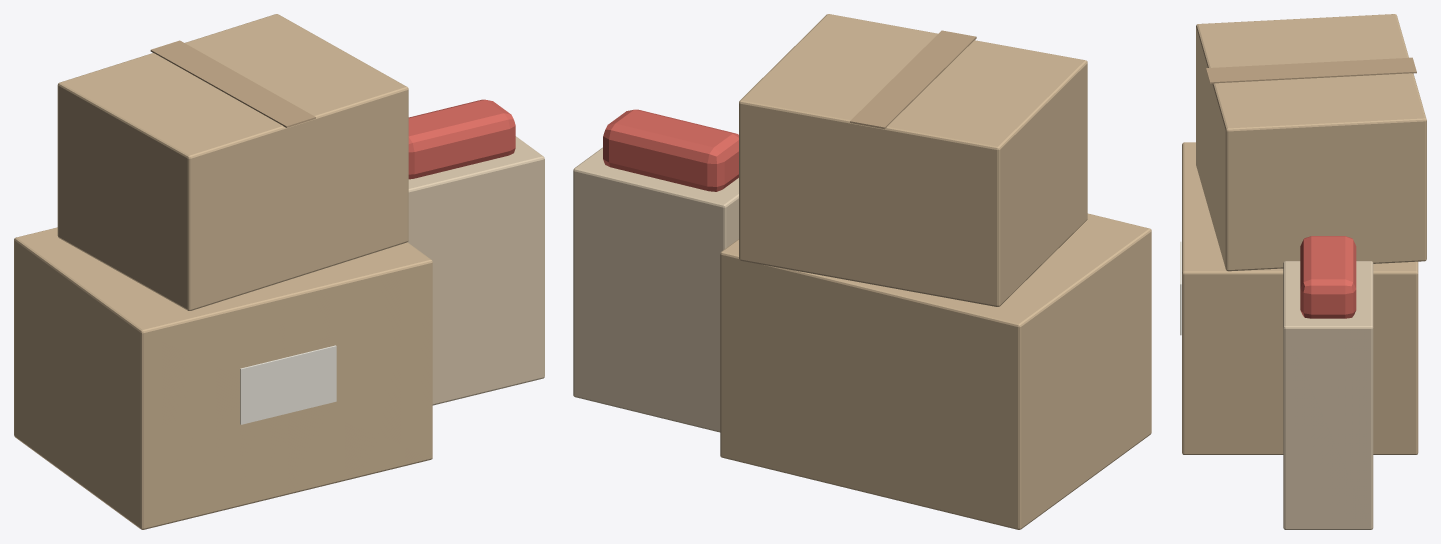
The model's file is v2_boxes.fbx.
3 renders of one model, left to right at view 1: azimuth 30°, elevation 25°; view 2: azimuth 150°, elevation 25°; view 3: azimuth 270°, elevation 25°, orthographic. The views are drawn at different scales.
Visible parts, largest first — view 1: BoxA, BoxB, Bag, BagCloth, Label, BoxTape; view 2: BoxA, BoxB, Bag, BagCloth, BoxTape; view 3: BoxB, BoxA, Bag, BagCloth, BoxTape.
Part boxes in pixels (x1,y1,x2,y2): BoxA: (14,227,432,529); BoxB: (57,14,408,310); Bag: (408,136,544,405); BagCloth: (408,99,515,179); Label: (240,345,336,424); BoxTape: (150,40,315,127); BoxA: (720,213,1151,529); BoxB: (739,14,1087,306); Bag: (573,147,738,432); BagCloth: (603,109,738,191); BoxTape: (850,30,976,129); BoxB: (1196,14,1426,271); BoxA: (1182,142,1418,454); Bag: (1283,261,1373,529); BagCloth: (1300,236,1356,318); BoxTape: (1206,57,1416,83).
Bounding box in the file's own units: 0.865 × 0.6425 × 0.4387.
